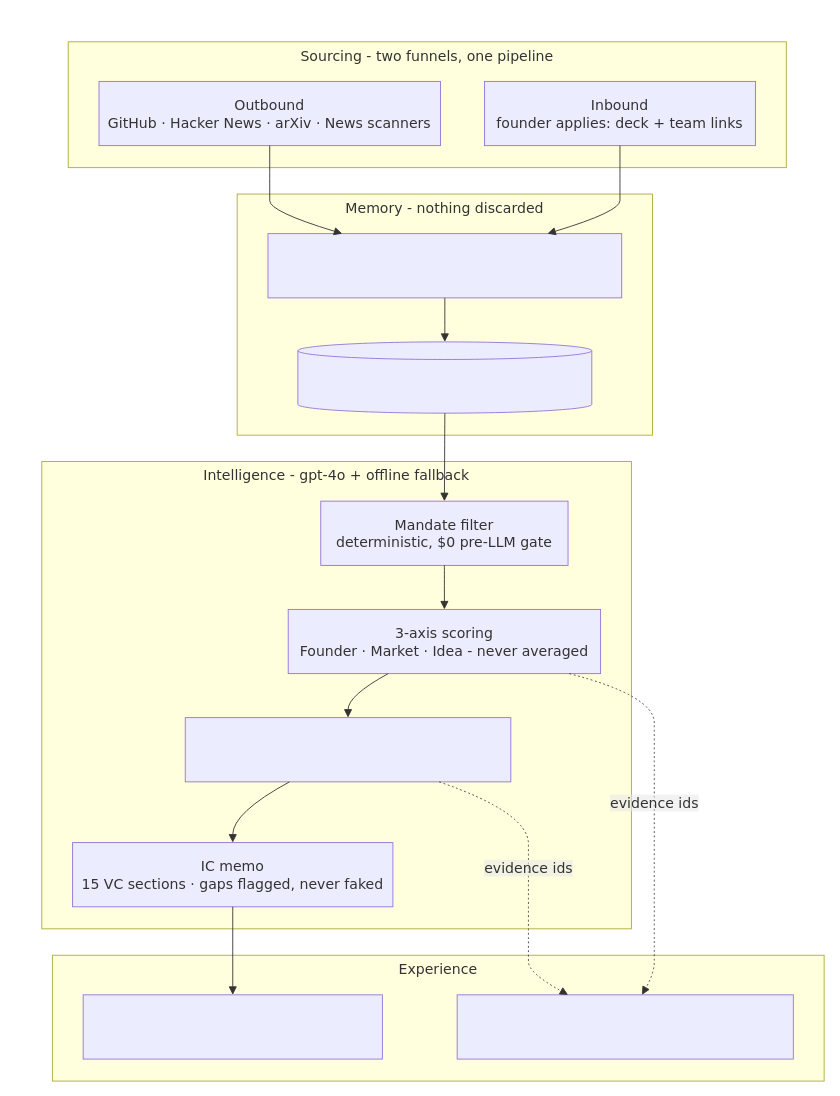
Some shapes in this 840 by 1096 pixel diagram are drawn without their labels. The shapes that lost their labels are listed below. From the top down, each one's centre as x and y in pixels, then its label:
the point at 444,265: Shared ingestion dedup · timestamp · source-tag · entity-resolve
the point at 444,377: SQLite signals · founders · persistent Founder Score
the point at 347,749: Diligence per-claim Trust Score · contradiction check
the point at 232,1026: Investor dashboard pipeline · database · founder matching
the point at 624,1026: Why? trace signal → rationale → validator → memo line
